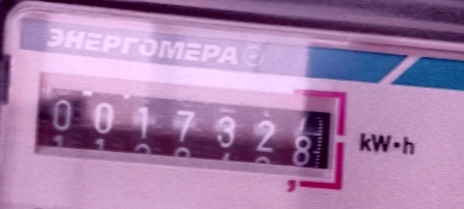0: (51, 94, 76, 132), (92, 99, 115, 134)
1: (135, 102, 153, 139)
2: (253, 116, 277, 154)
3: (214, 112, 239, 149)
7: (171, 105, 198, 144)
8: (290, 131, 313, 167)
screen: (24, 67, 353, 192)
